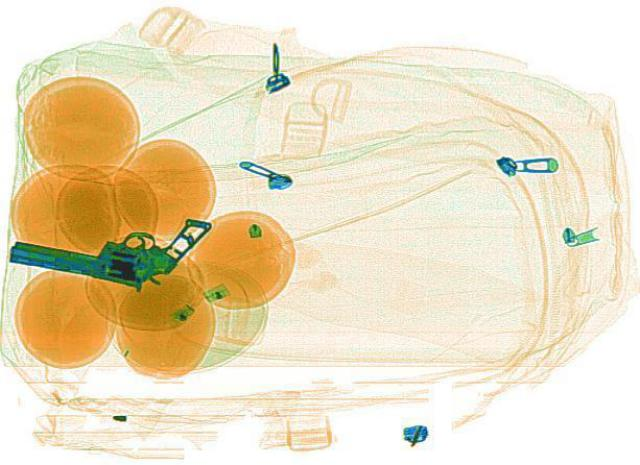Gun: (1, 187, 211, 294)
